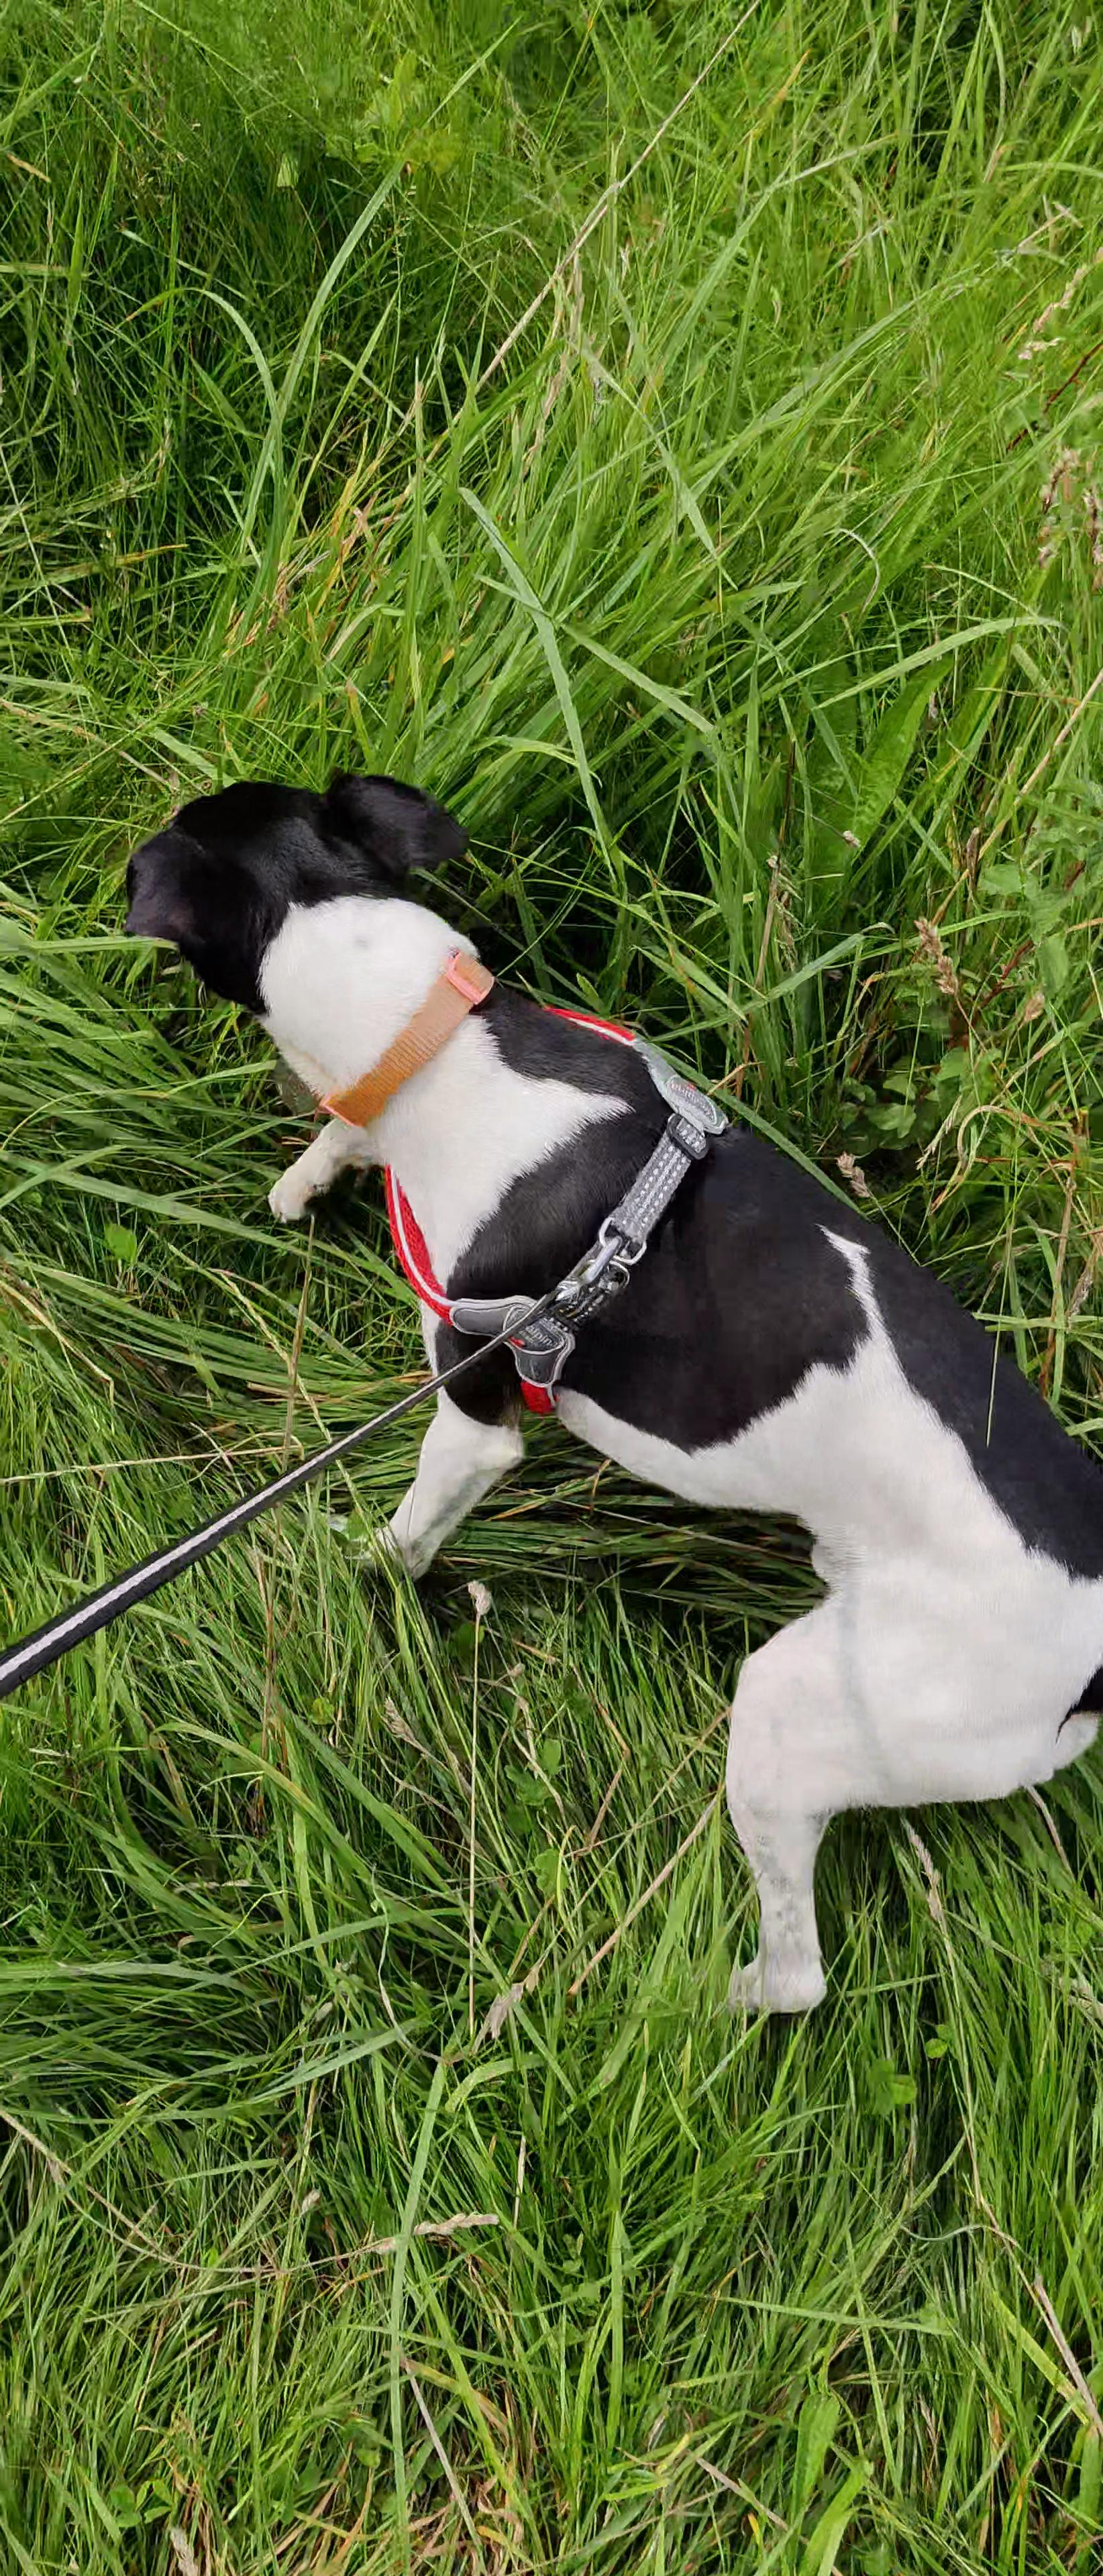Dog: (62, 733, 1103, 2042)
